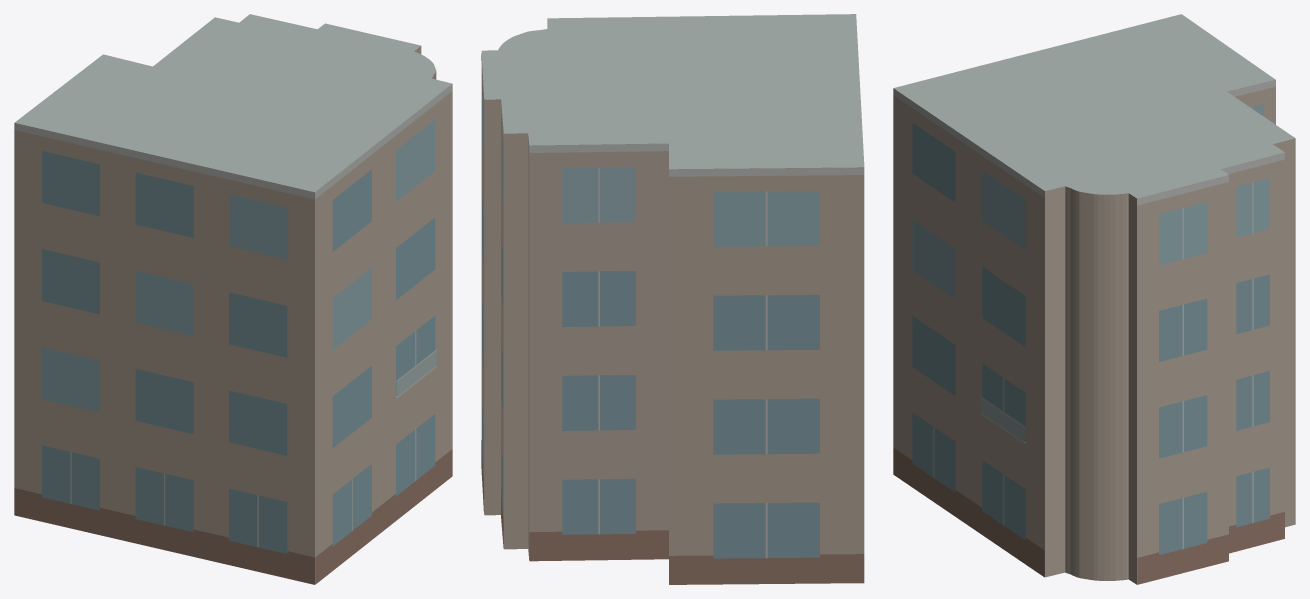
File: survey-upis-33001869.glb
The picture shows the model from 3 angles, left to right: view 1: azimuth 30°, elevation 25°; view 2: azimuth 150°, elevation 25°; view 3: azimuth 270°, elevation 25°; orthographic projection. The views are drawn at different scales.
Visible parts, largest first — view 1: survey-upis-33001869.tmp; view 2: survey-upis-33001869.tmp; view 3: survey-upis-33001869.tmp.
Boxes of the visible parts, x1,y1,x2,y2 form: survey-upis-33001869.tmp: (14,14,452,584); survey-upis-33001869.tmp: (481,14,864,584); survey-upis-33001869.tmp: (893,14,1295,584).
Bounding box in the file's own units: 13.74 × 13.4 × 12.66.
